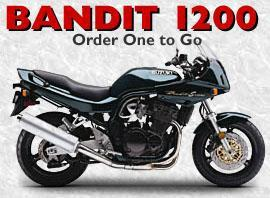motorcycle: (9, 45, 269, 191)
